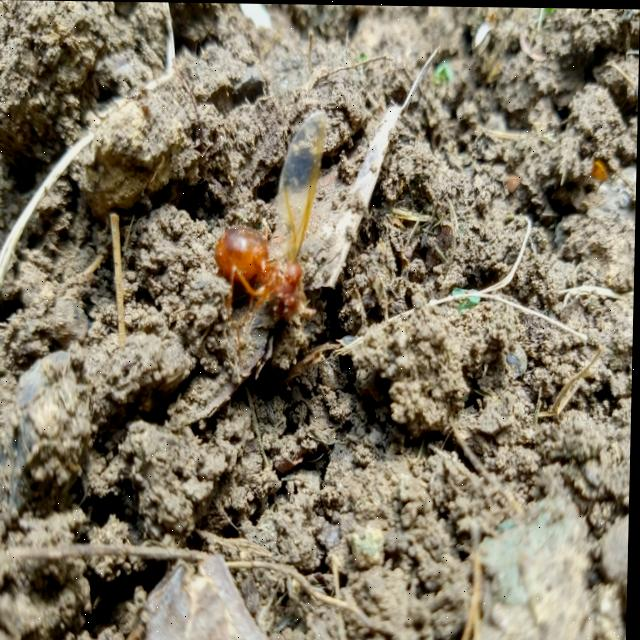Dead-Male-Alate: (213, 108, 329, 357)
